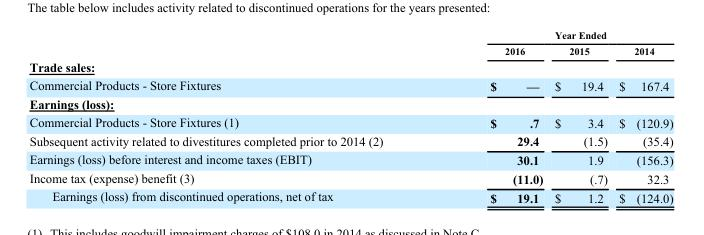table: (28, 29, 672, 204)
table column: (28, 29, 436, 204), (436, 29, 548, 204), (548, 29, 612, 204), (612, 29, 672, 204)
table column header: (28, 29, 672, 58)
table projected row header: (28, 58, 672, 76), (28, 95, 672, 112)
table row: (28, 76, 672, 95), (28, 112, 672, 131), (28, 149, 672, 168), (28, 168, 672, 187), (28, 58, 672, 76), (28, 131, 672, 149), (28, 95, 672, 112), (28, 187, 672, 204), (28, 42, 672, 58), (28, 29, 672, 42)
table spanning cell: (436, 29, 672, 42)
